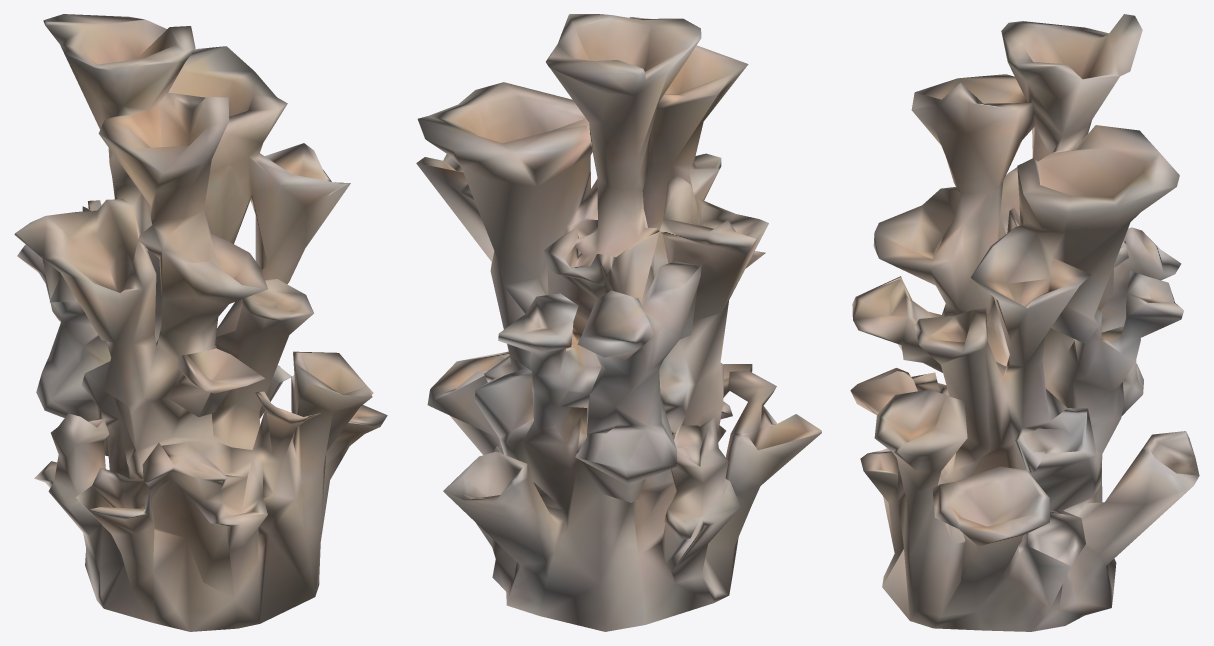
The model's file is cup-coral.glb.
3 views of the same model, side by side, from view 1: azimuth 30°, elevation 25°; view 2: azimuth 150°, elevation 25°; view 3: azimuth 270°, elevation 25° (orthographic). The views are drawn at different scales.
Parts seen in each view (by area): view 1: tripo_node_5feee6de-e532-4280-ab74-ac546bef5efe; view 2: tripo_node_5feee6de-e532-4280-ab74-ac546bef5efe; view 3: tripo_node_5feee6de-e532-4280-ab74-ac546bef5efe.
Boxes of the visible parts, x1,y1,x2,y2 form: tripo_node_5feee6de-e532-4280-ab74-ac546bef5efe: [14, 14, 387, 631]; tripo_node_5feee6de-e532-4280-ab74-ac546bef5efe: [416, 14, 821, 631]; tripo_node_5feee6de-e532-4280-ab74-ac546bef5efe: [850, 14, 1199, 631].
Size of the model in its own units: 0.6004 by 0.946 by 0.5631.
Materials: 1 (1 with a texture image).
